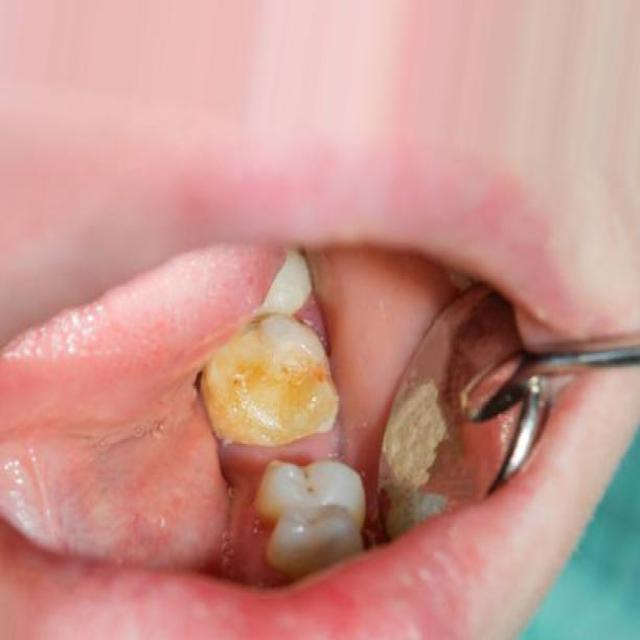caries: (205, 309, 342, 457)
